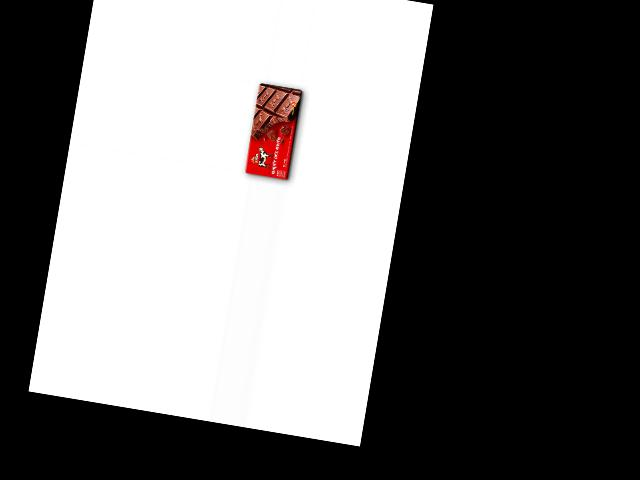chocolate: (242, 80, 306, 183)
